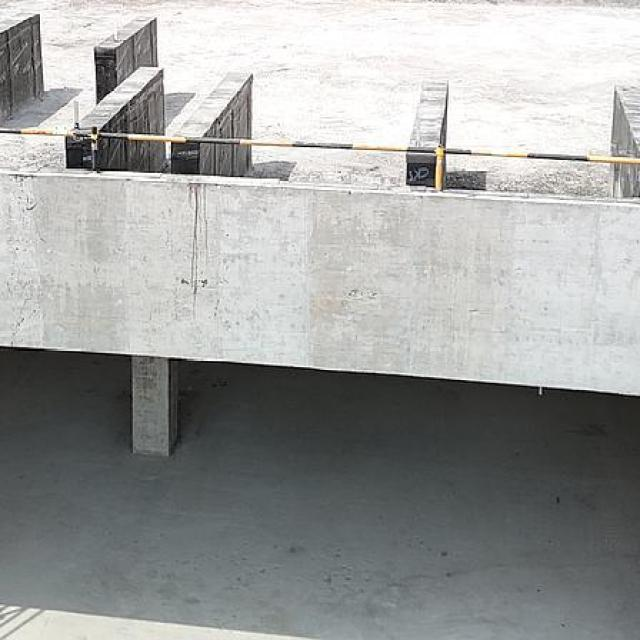edge_guardrail: (0, 125, 640, 192)
